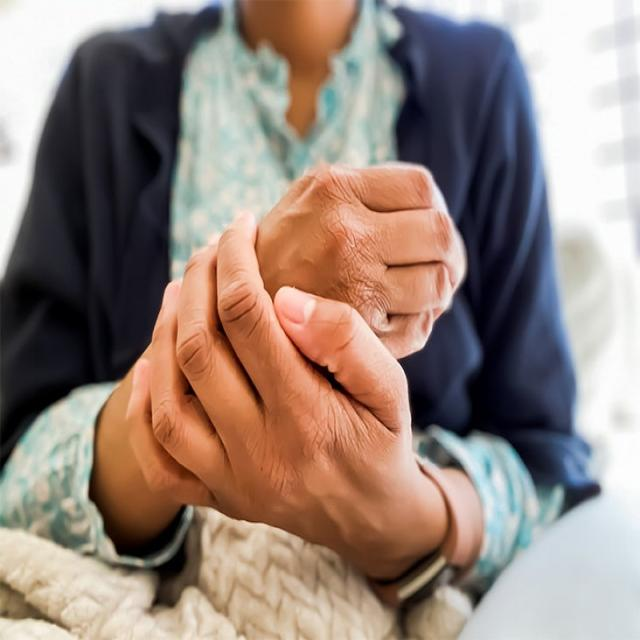eczema: (234, 378, 393, 467), (308, 170, 392, 331)
